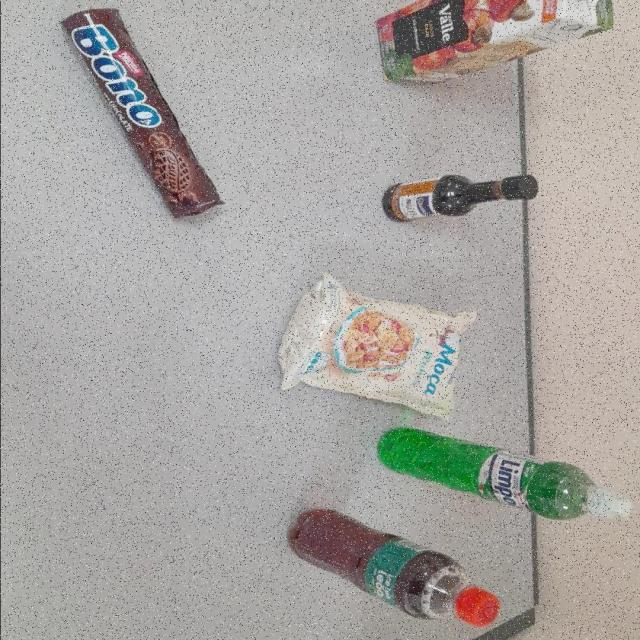Cleaner: (374, 427, 632, 521)
Cookies: (58, 7, 222, 221), (375, 427, 632, 521)
CornFlakes: (274, 273, 473, 419)
EnglishSauce: (380, 172, 537, 222)
IceTea: (286, 510, 499, 628)
